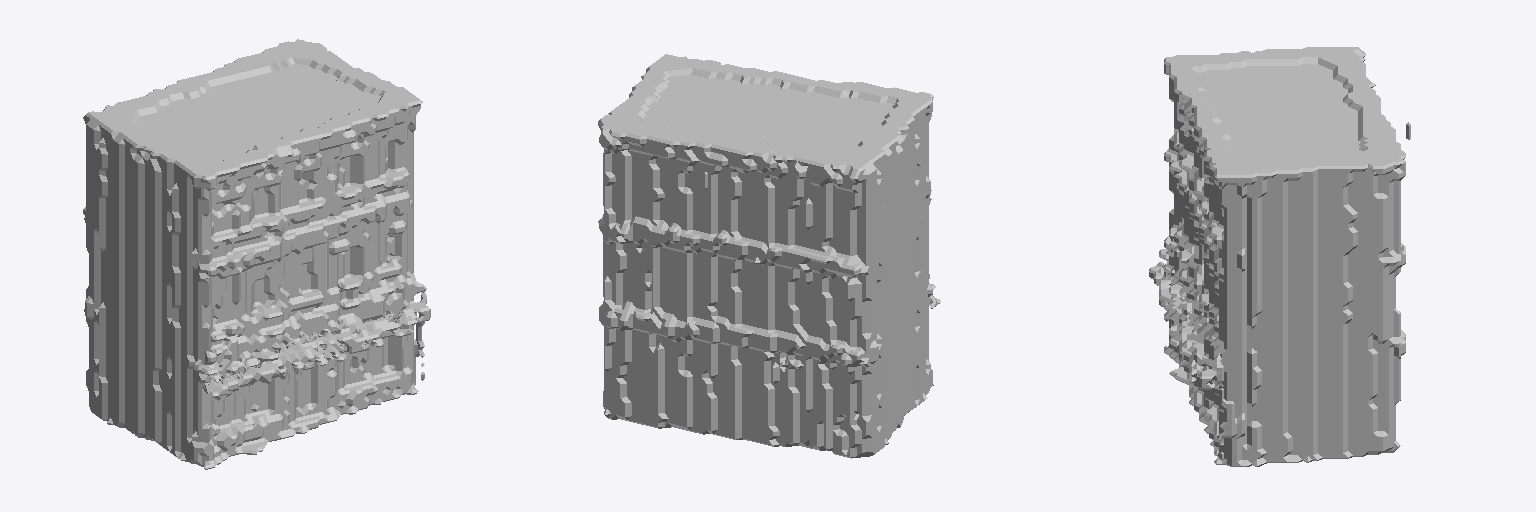
File: gen2_colored.obj
3 views of the same model, side by side, from view 1: azimuth 30°, elevation 25°; view 2: azimuth 150°, elevation 25°; view 3: azimuth 270°, elevation 25° (orthographic).
Parts seen in each view (by area): view 1: gen2.obj; view 2: gen2.obj; view 3: gen2.obj.
Boxes of the visible parts, <box> form: gen2.obj: <box>83,39,430,469</box>; gen2.obj: <box>598,54,940,458</box>; gen2.obj: <box>1149,47,1410,466</box>.
Size of the model in its own units: 64 by 64 by 52.